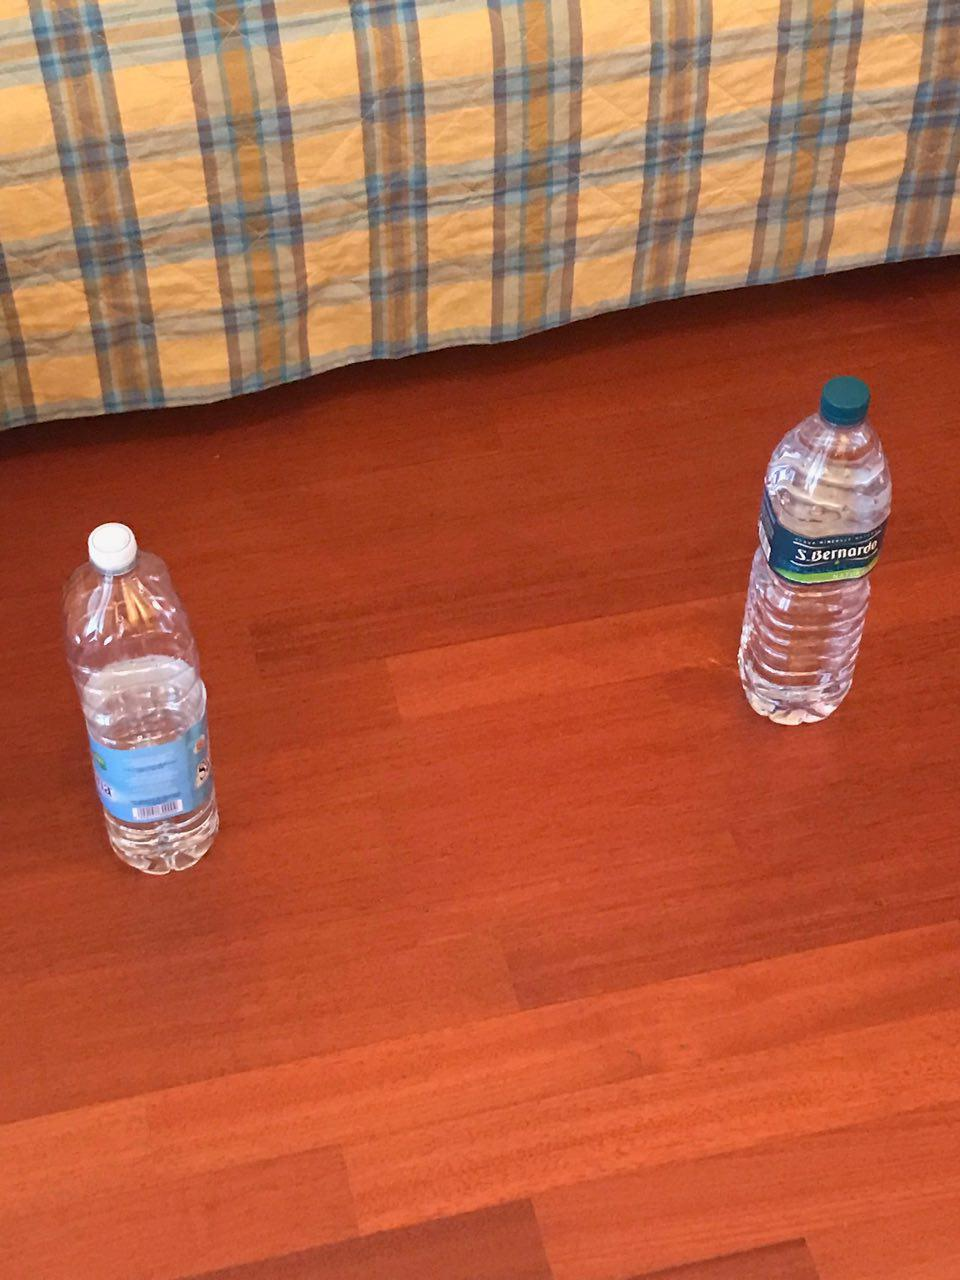san_bernardo: (736, 375, 893, 729)
